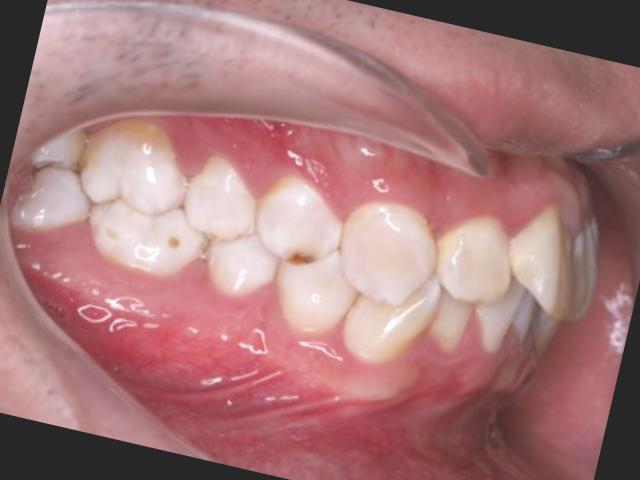canine class II 1/2: (262, 178, 458, 378)
molar class I: (55, 108, 224, 296)
